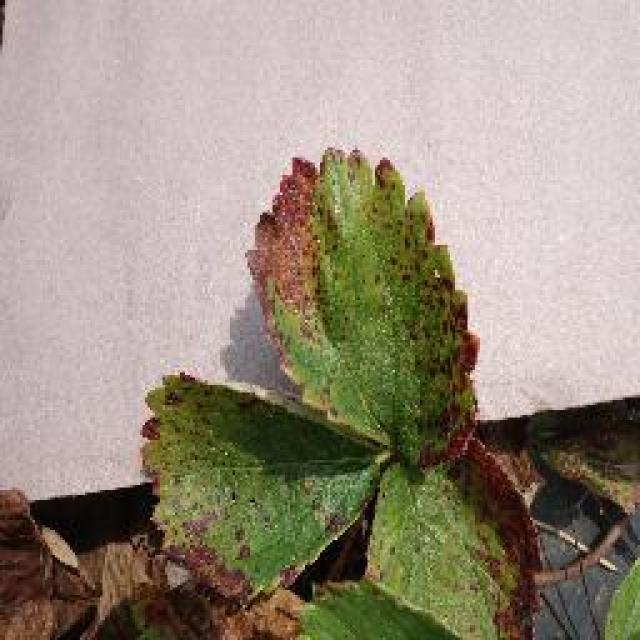Strawberry leaf scorch: (245, 195, 485, 597)
